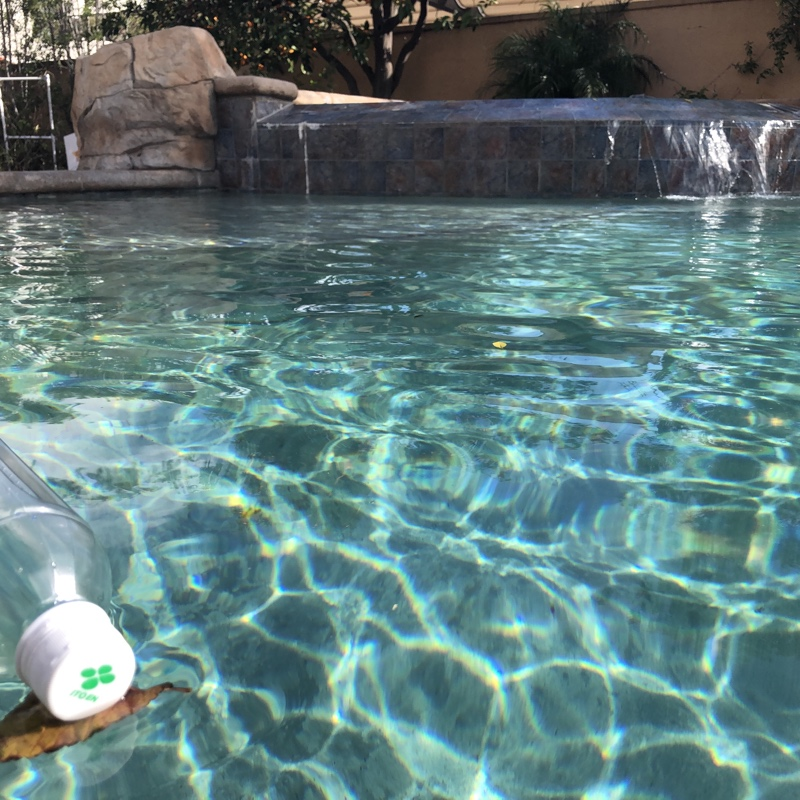Plastic Bottle: (1, 420, 144, 736)
